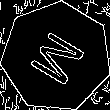M_SE: (23, 24, 90, 89)
